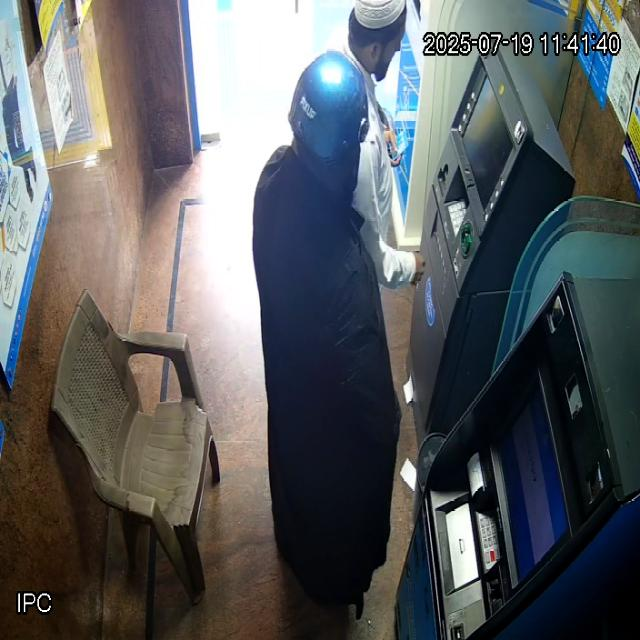helmet: (288, 52, 369, 155)
no_helmet: (348, 0, 405, 83)
